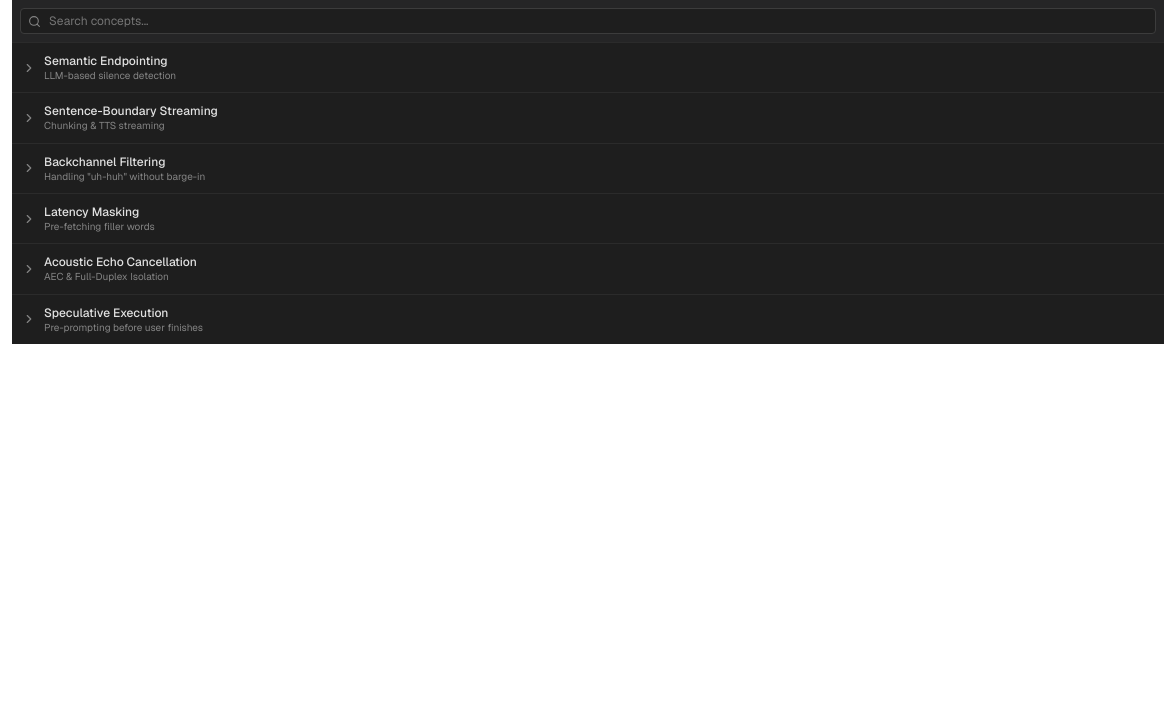
Enterprise Knowledge Base Data & Progressive Disclosure › implements progressive disclosure: renders summary and reveals deep dive on demand
# Open first concept accordion
Step 1. Click the button "Semantic Endpointing LLM-based silence detection" → click(106, 61), box [12,43,1164,92]
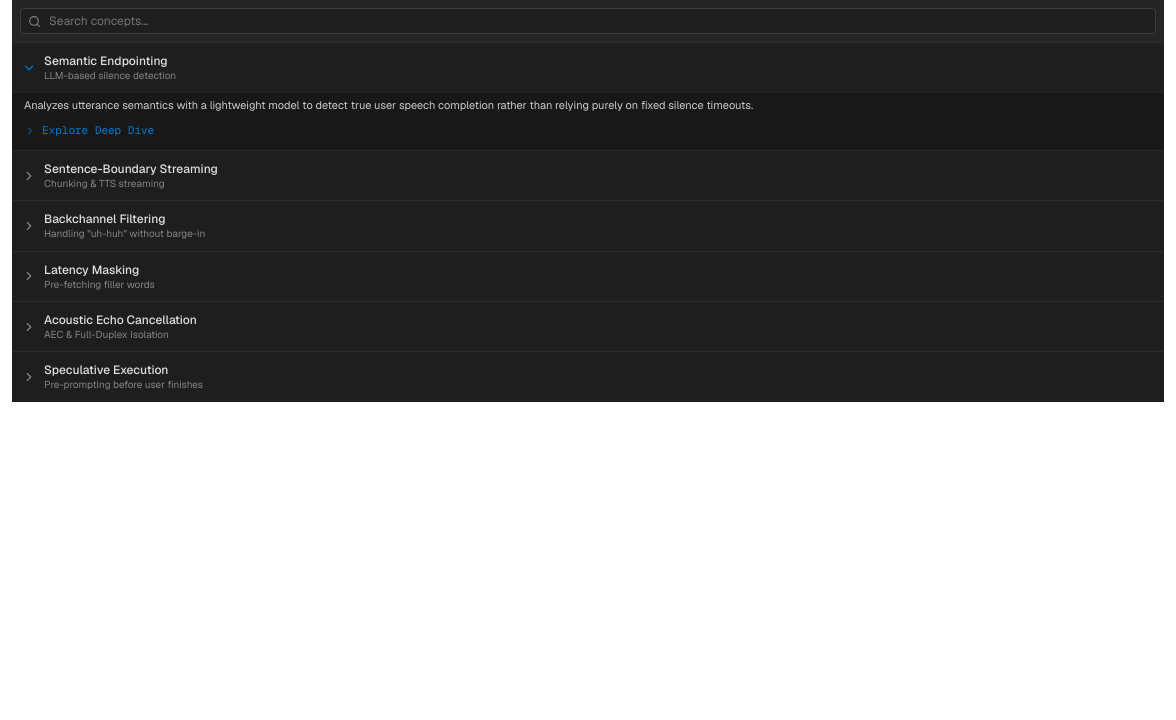
expect the text "Analyzes utterance semantics with a lightweight model to detect true user speech completion rather than relying purely o" is shown: met, box [24,98,753,112]
# Click "Deep Dive" toggle
Step 2. Click the button "Explore Deep Dive" → click(89, 131), box [24,123,154,138]
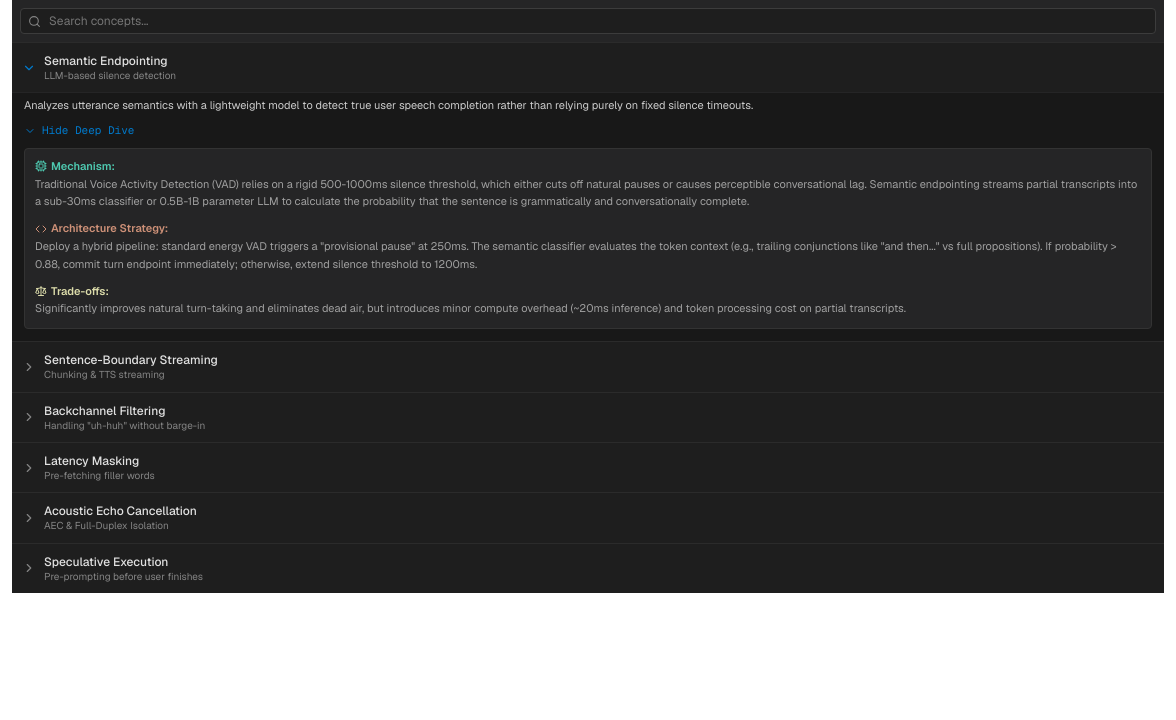
expect the text "Traditional Voice Activity Detection (VAD) relies on a rigid 500-1000ms silence threshold, which either cuts off natural" is shown: met, box [35,176,1137,208]
expect the text "Deploy a hybrid pipeline: standard energy VAD triggers a \"provisional pause\" at 250ms. The semantic classifier evaluates" is shown: met, box [35,239,1117,271]
# Clicking deep dive toggle again collapses it
Step 3. Click the button "Hide Deep Dive" → click(79, 131), box [24,123,134,138]
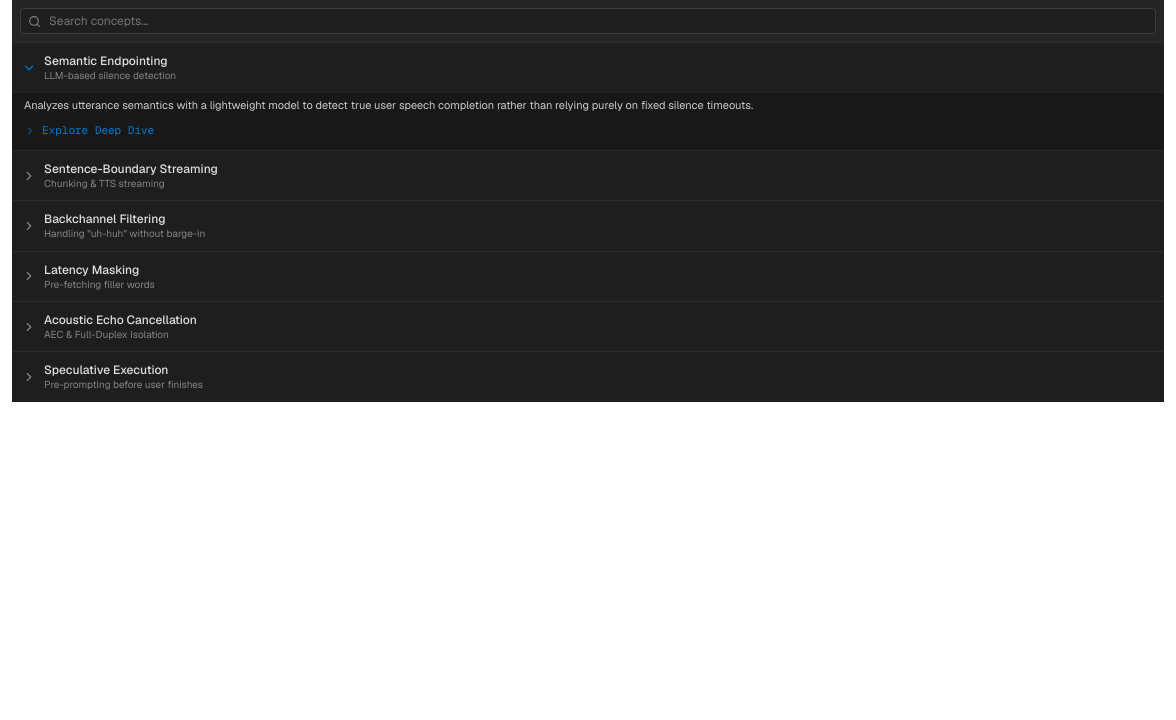
expect the text "Traditional Voice Activity Detection (VAD) relies on a rigid 500-1000ms silence threshold, which either cuts off natural" is gone: met
